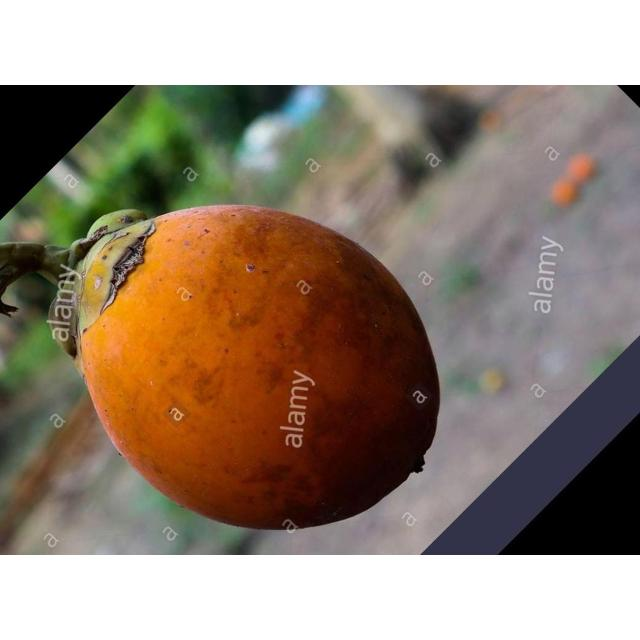good: (46, 206, 441, 533)
